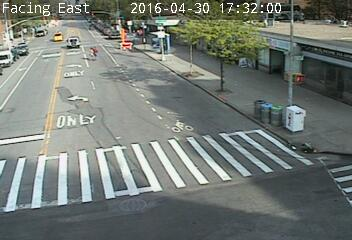neg: (137, 85, 177, 139), (279, 106, 313, 151), (52, 107, 81, 146), (220, 84, 244, 116), (251, 127, 274, 158), (85, 166, 106, 194), (190, 29, 210, 56), (135, 193, 154, 219), (284, 53, 303, 78), (23, 23, 40, 46), (216, 184, 232, 205), (320, 67, 336, 88), (148, 33, 159, 49)
pos: (86, 42, 99, 61)
